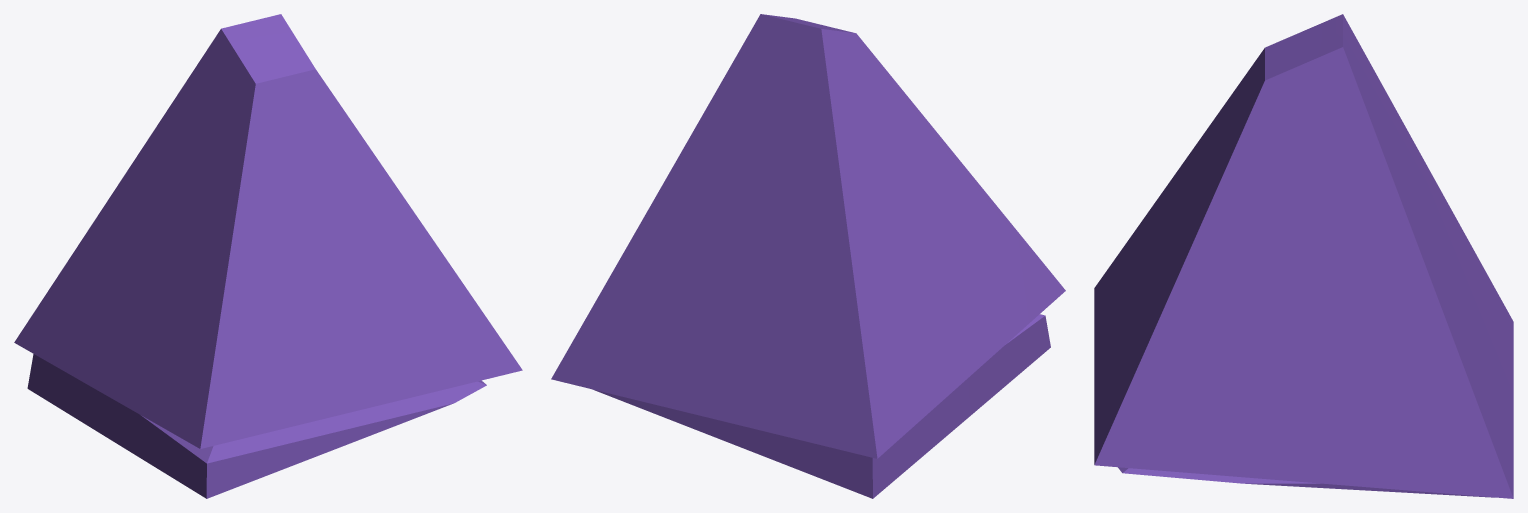
File: rocketColoredP2.glb
The picture shows the model from 3 angles, left to right: view 1: azimuth 30°, elevation 25°; view 2: azimuth 150°, elevation 25°; view 3: azimuth 270°, elevation 25°; orthographic projection. The views are drawn at different scales.
Visible parts, largest first — view 1: Cube.007; view 2: Cube.007; view 3: Cube.007.
Boxes of the visible parts, x1=… form: Cube.007: x1=14, y1=14, x2=522, y2=498; Cube.007: x1=551, y1=14, x2=1065, y2=498; Cube.007: x1=1094, y1=14, x2=1513, y2=498.
Size of the model in its own units: 3.92 by 4.45 by 3.92.
Materials: 1 (1 with a texture image).
